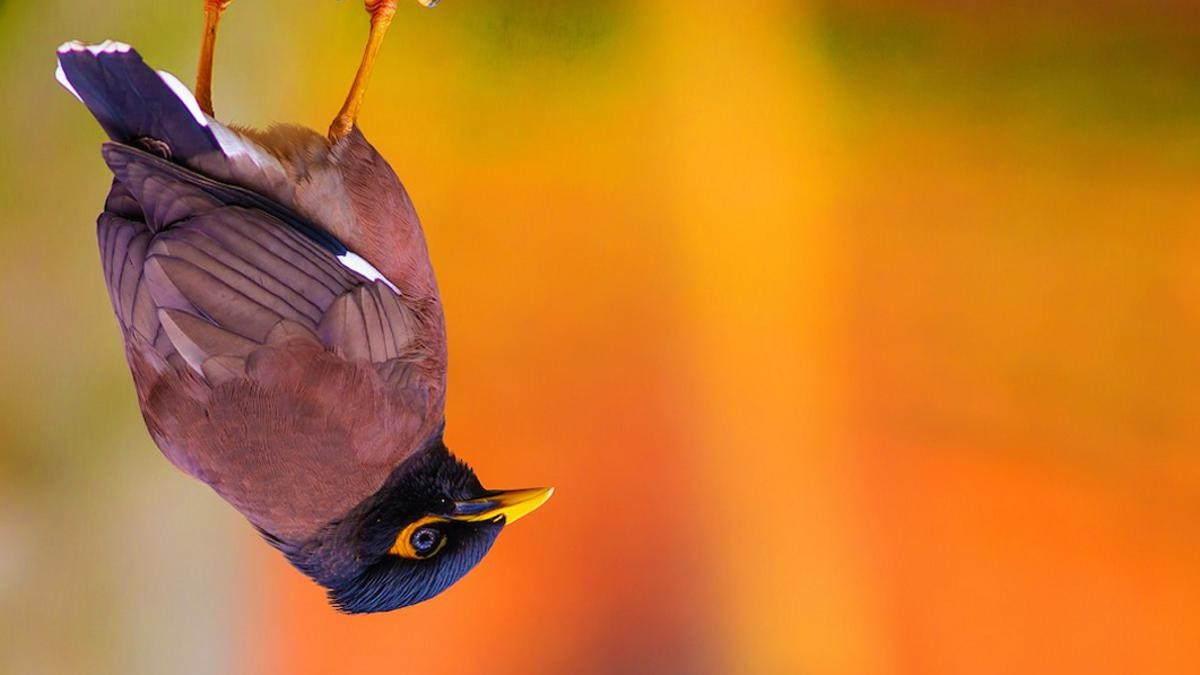myna: (100, 54, 571, 645)
